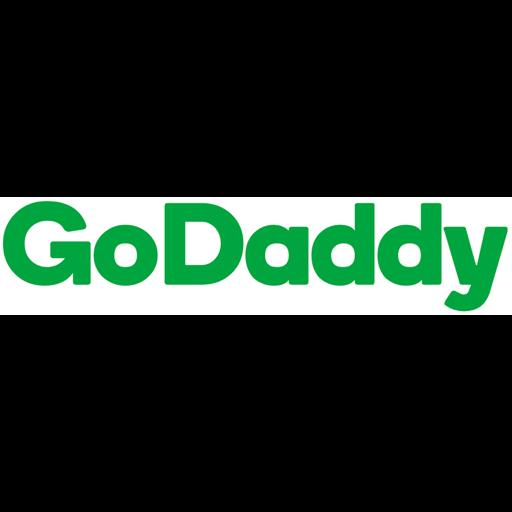GoDaddy: (0, 197, 512, 315)
